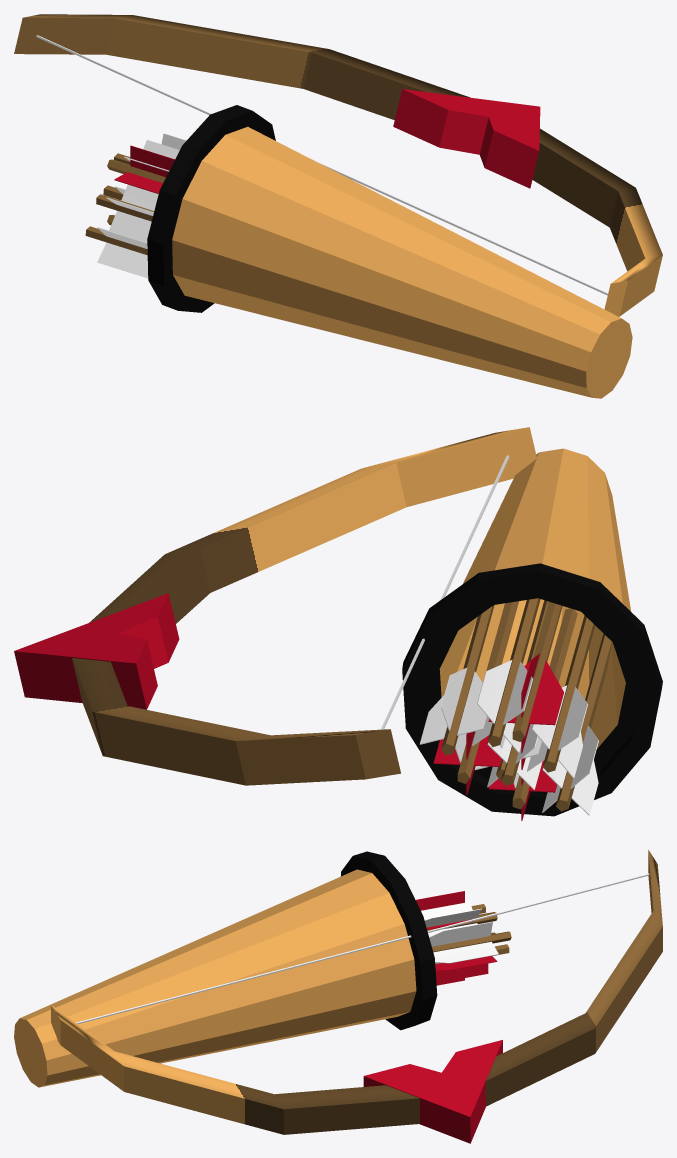
Rendered from bow.obj.
The picture shows the model from 3 angles, top to bottom: view 1: azimuth 30°, elevation 25°; view 2: azimuth 150°, elevation 25°; view 3: azimuth 270°, elevation 25°; orthographic projection. The views are drawn at different scales.
Visible parts, largest first — view 1: Cylinder.008, Cylinder.009, Plane.001, Cube.002_Cube.001_Cube.002_Cube.005, Cube.001_Cube.001, Cube.002_Cube.002, Cube.002_Cube.005_Cube.002_Cube.007; view 2: Cylinder.008, Cylinder.009, Plane.001, Cylinder.001_Cylinder.004, Cylinder.011_Cylinder.012, Cube.002_Cube.011_Cube.002_Cube.013, Cylinder.014_Cylinder.015, Cylinder.002, Cylinder.006_Cylinder.007, Cylinder.013_Cylinder.014, Cube.003_Cube.006_Cube.003_Cube.008, Cube.002_Cube.009_Cube.002_Cube.011 (+11 smaller); view 3: Cylinder.008, Cylinder.009, Plane.001, Cube.001_Cube.001, Cube.002_Cube.011_Cube.002_Cube.013, Cube.003_Cube.012_Cube.003_Cube.014, Cube.002_Cube.005_Cube.002_Cube.007, Cube.003_Cube.009_Cube.003_Cube.011, Cube.002_Cube.012_Cube.002_Cube.014, Cylinder.014_Cylinder.015, Cube.002_Cube.009_Cube.002_Cube.011, Cube.003_Cube.011_Cube.003_Cube.013.
Boxes of the visible parts, bbox=[...] form: Cylinder.008: bbox=[147, 105, 632, 398]; Cylinder.009: bbox=[14, 14, 662, 316]; Plane.001: bbox=[393, 89, 540, 188]; Cube.002_Cube.001_Cube.002_Cube.005: bbox=[109, 184, 158, 242]; Cube.001_Cube.001: bbox=[36, 35, 608, 295]; Cube.002_Cube.002: bbox=[97, 242, 148, 278]; Cube.002_Cube.005_Cube.002_Cube.007: bbox=[130, 145, 174, 177]; Cylinder.008: bbox=[402, 448, 662, 816]; Cylinder.009: bbox=[72, 427, 536, 785]; Plane.001: bbox=[14, 593, 179, 709]; Cylinder.001_Cylinder.004: bbox=[542, 615, 595, 772]; Cylinder.011_Cylinder.012: bbox=[488, 598, 540, 746]; Cube.002_Cube.011_Cube.002_Cube.013: bbox=[419, 671, 486, 744]; Cylinder.014_Cylinder.015: bbox=[441, 605, 494, 755]; Cylinder.002: bbox=[556, 633, 611, 811]; Cylinder.006_Cylinder.007: bbox=[512, 601, 561, 741]; Cylinder.013_Cylinder.014: bbox=[457, 601, 519, 783]; Cube.003_Cube.006_Cube.003_Cube.008: bbox=[488, 660, 563, 725]; Cube.002_Cube.009_Cube.002_Cube.011: bbox=[477, 660, 521, 753]; Cylinder.008: bbox=[14, 851, 437, 1087]; Cylinder.009: bbox=[51, 850, 662, 1134]; Plane.001: bbox=[363, 1040, 502, 1143]; Cube.001_Cube.001: bbox=[76, 873, 649, 1023]; Cube.002_Cube.011_Cube.002_Cube.013: bbox=[428, 931, 498, 963]; Cube.003_Cube.012_Cube.003_Cube.014: bbox=[429, 921, 492, 963]; Cube.002_Cube.005_Cube.002_Cube.007: bbox=[415, 891, 464, 910]; Cube.003_Cube.009_Cube.003_Cube.011: bbox=[421, 899, 477, 934]; Cube.002_Cube.012_Cube.002_Cube.014: bbox=[435, 963, 488, 982]; Cylinder.014_Cylinder.015: bbox=[432, 931, 511, 952]; Cube.002_Cube.009_Cube.002_Cube.011: bbox=[424, 908, 481, 927]; Cube.003_Cube.011_Cube.003_Cube.013: bbox=[435, 956, 497, 970].
Bounding box in the file's own units: 25.48 × 10.22 × 36.42.
10 materials, 10 textured.
